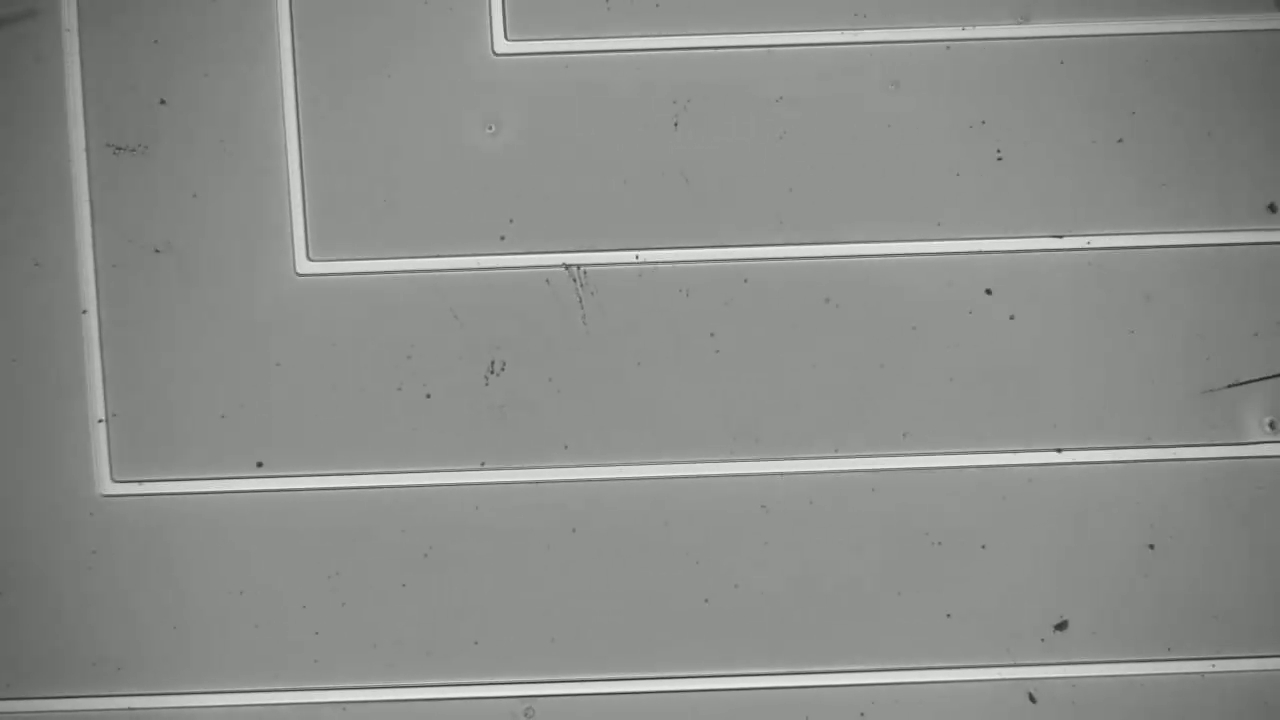scratch: (1187, 346, 1280, 412)
